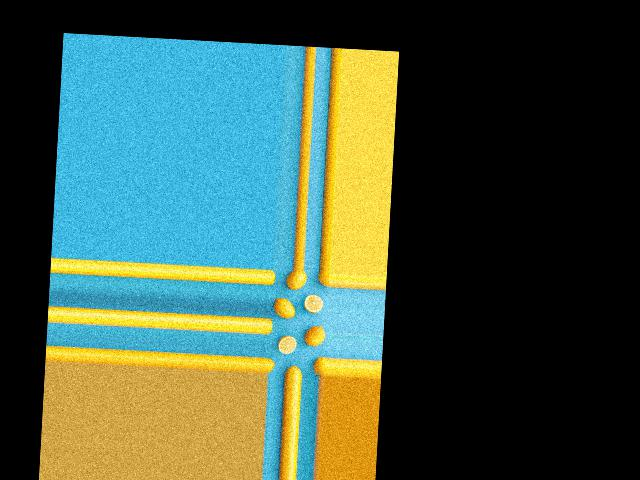lemon: (315, 270, 330, 288)
